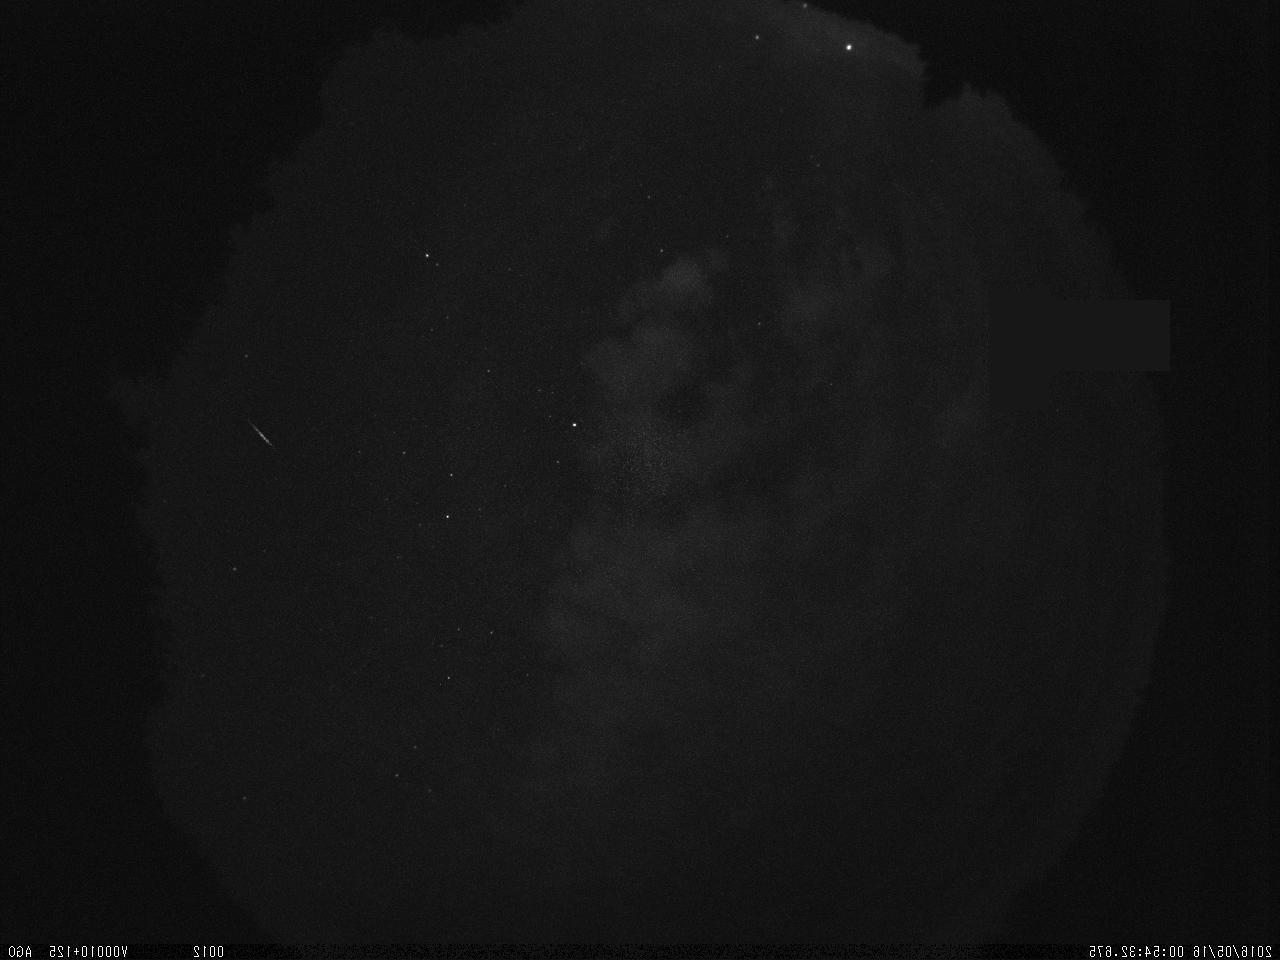meteor: (246, 421, 277, 453)
